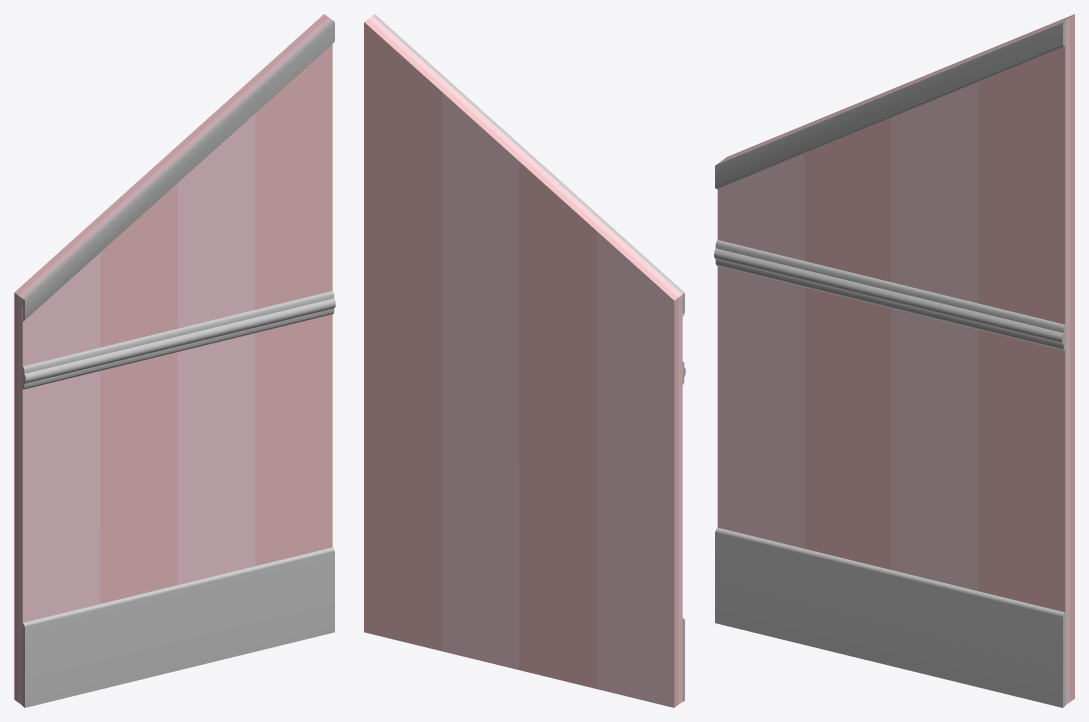
File: Wall_Interior_Angled_6.fbx
3 renders of one model, left to right at view 1: azimuth 30°, elevation 25°; view 2: azimuth 150°, elevation 25°; view 3: azimuth 330°, elevation 25°, orthographic. The views are drawn at different scales.
Visible parts, largest first — view 1: Wall_Interior_Angled; view 2: Wall_Interior_Angled; view 3: Wall_Interior_Angled.
Part boxes in pixels (<box>): Wall_Interior_Angled: <box>14,14,335,707</box>; Wall_Interior_Angled: <box>364,14,685,707</box>; Wall_Interior_Angled: <box>714,14,1074,707</box>.
Size of the model in its own units: 1 by 1.88 by 0.0649.
